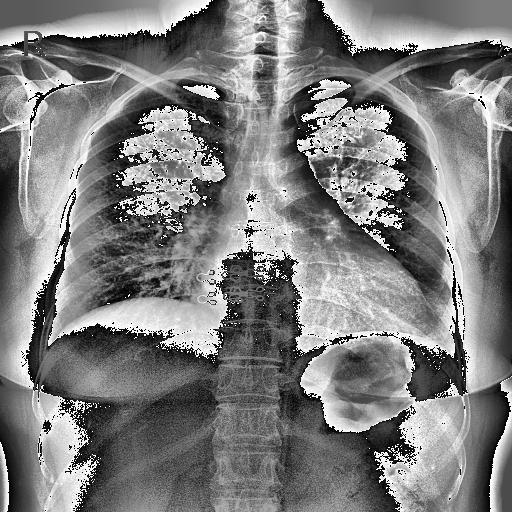3- Cardiomegaly: (201, 250, 431, 336), (200, 260, 434, 342), (199, 266, 427, 335)
